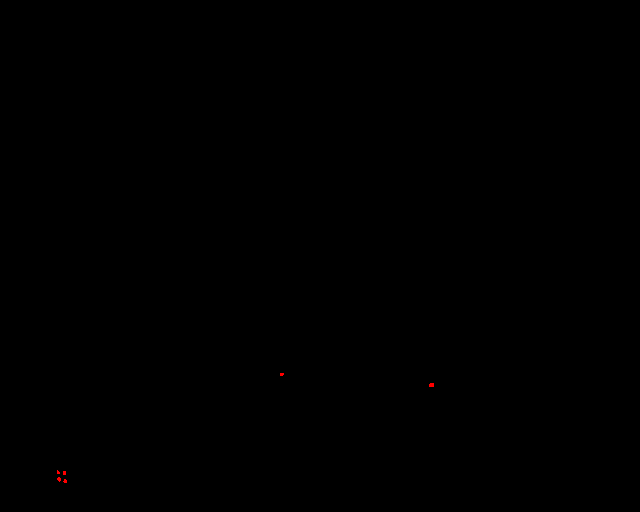Target: (429, 383, 434, 387), (57, 477, 61, 482), (63, 479, 67, 483), (280, 373, 284, 376), (57, 470, 60, 474), (63, 471, 66, 475)
